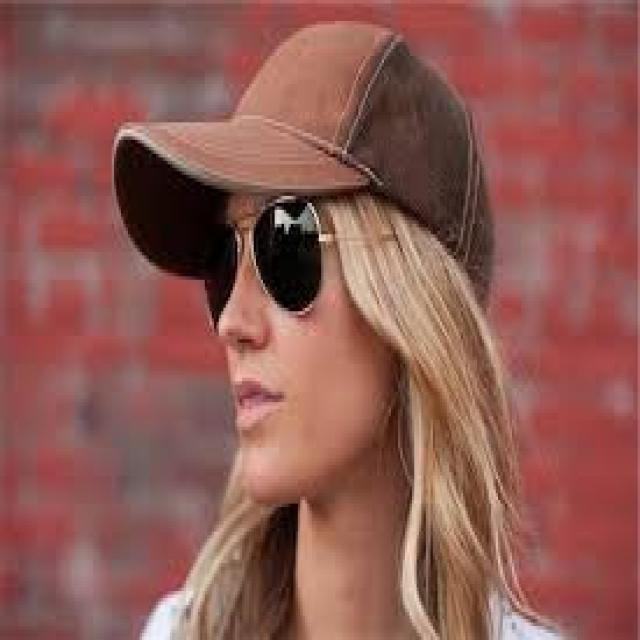cap: (107, 4, 498, 402)
